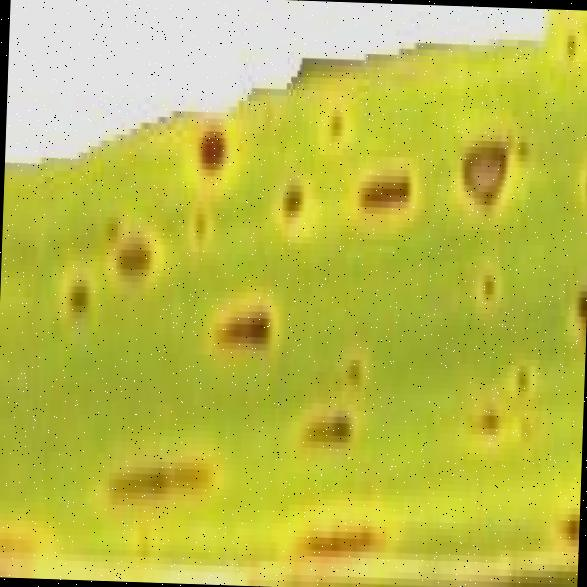Brown_Spot: (444, 114, 540, 213), (93, 428, 220, 502), (284, 498, 399, 578), (202, 271, 278, 369), (178, 86, 238, 202), (292, 376, 369, 456), (269, 121, 312, 243), (354, 150, 424, 222), (0, 493, 46, 571), (113, 223, 162, 289), (335, 308, 369, 398), (54, 240, 90, 318), (470, 248, 508, 308), (317, 84, 344, 160), (561, 258, 584, 335), (506, 333, 534, 391), (474, 383, 500, 441), (557, 488, 578, 558), (573, 144, 587, 221), (560, 15, 578, 60)
